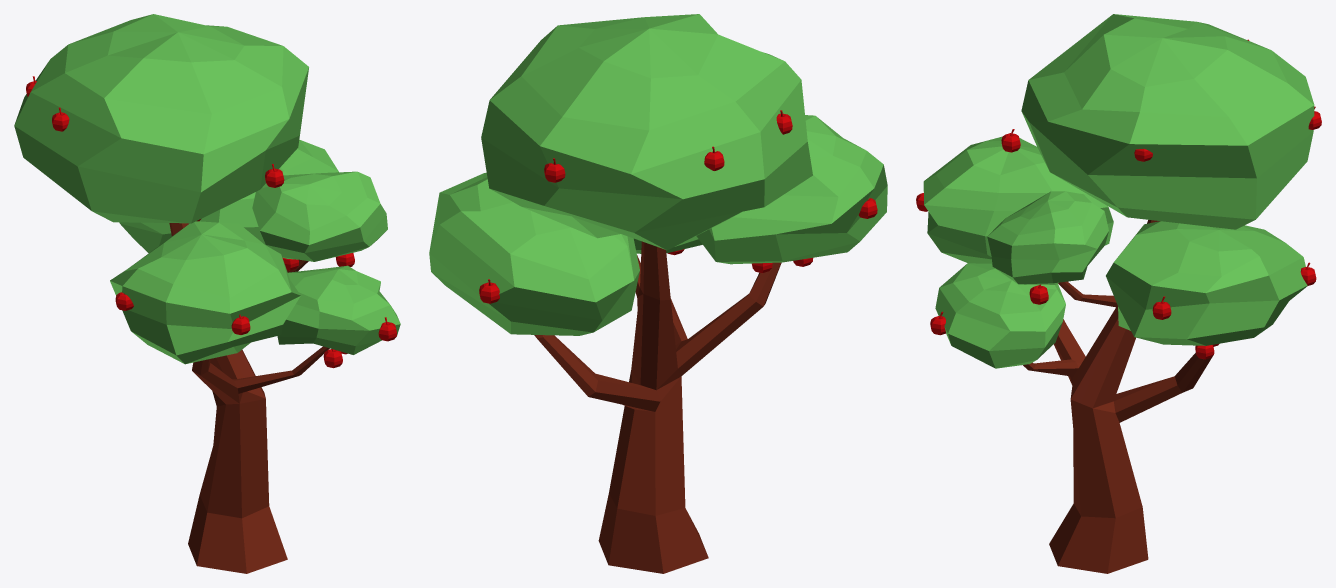
File: AppleTree3.obj
The picture shows the model from 3 angles, left to right: view 1: azimuth 30°, elevation 25°; view 2: azimuth 150°, elevation 25°; view 3: azimuth 270°, elevation 25°; orthographic projection. The views are drawn at different scales.
Visible parts, largest first — view 1: Apple_Circle.001; view 2: Apple_Circle.001; view 3: Apple_Circle.001.
Boxes of the visible parts, x1,y1,x2,y2 form: Apple_Circle.001: [14, 14, 400, 573]; Apple_Circle.001: [429, 14, 887, 573]; Apple_Circle.001: [916, 14, 1321, 573].
Bounding box in the file's own units: 2.97 × 4.7 × 3.46.
Materials: 2 (1 with a texture image).
